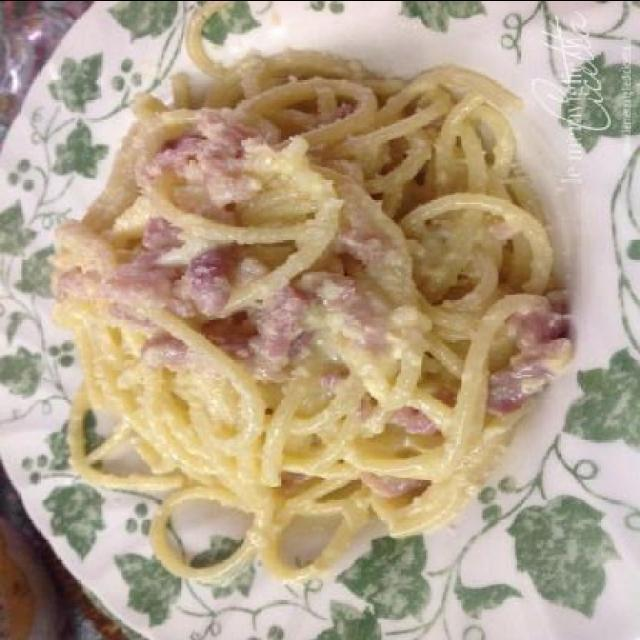Pasta with carbonara sauce: (45, 24, 568, 618)
